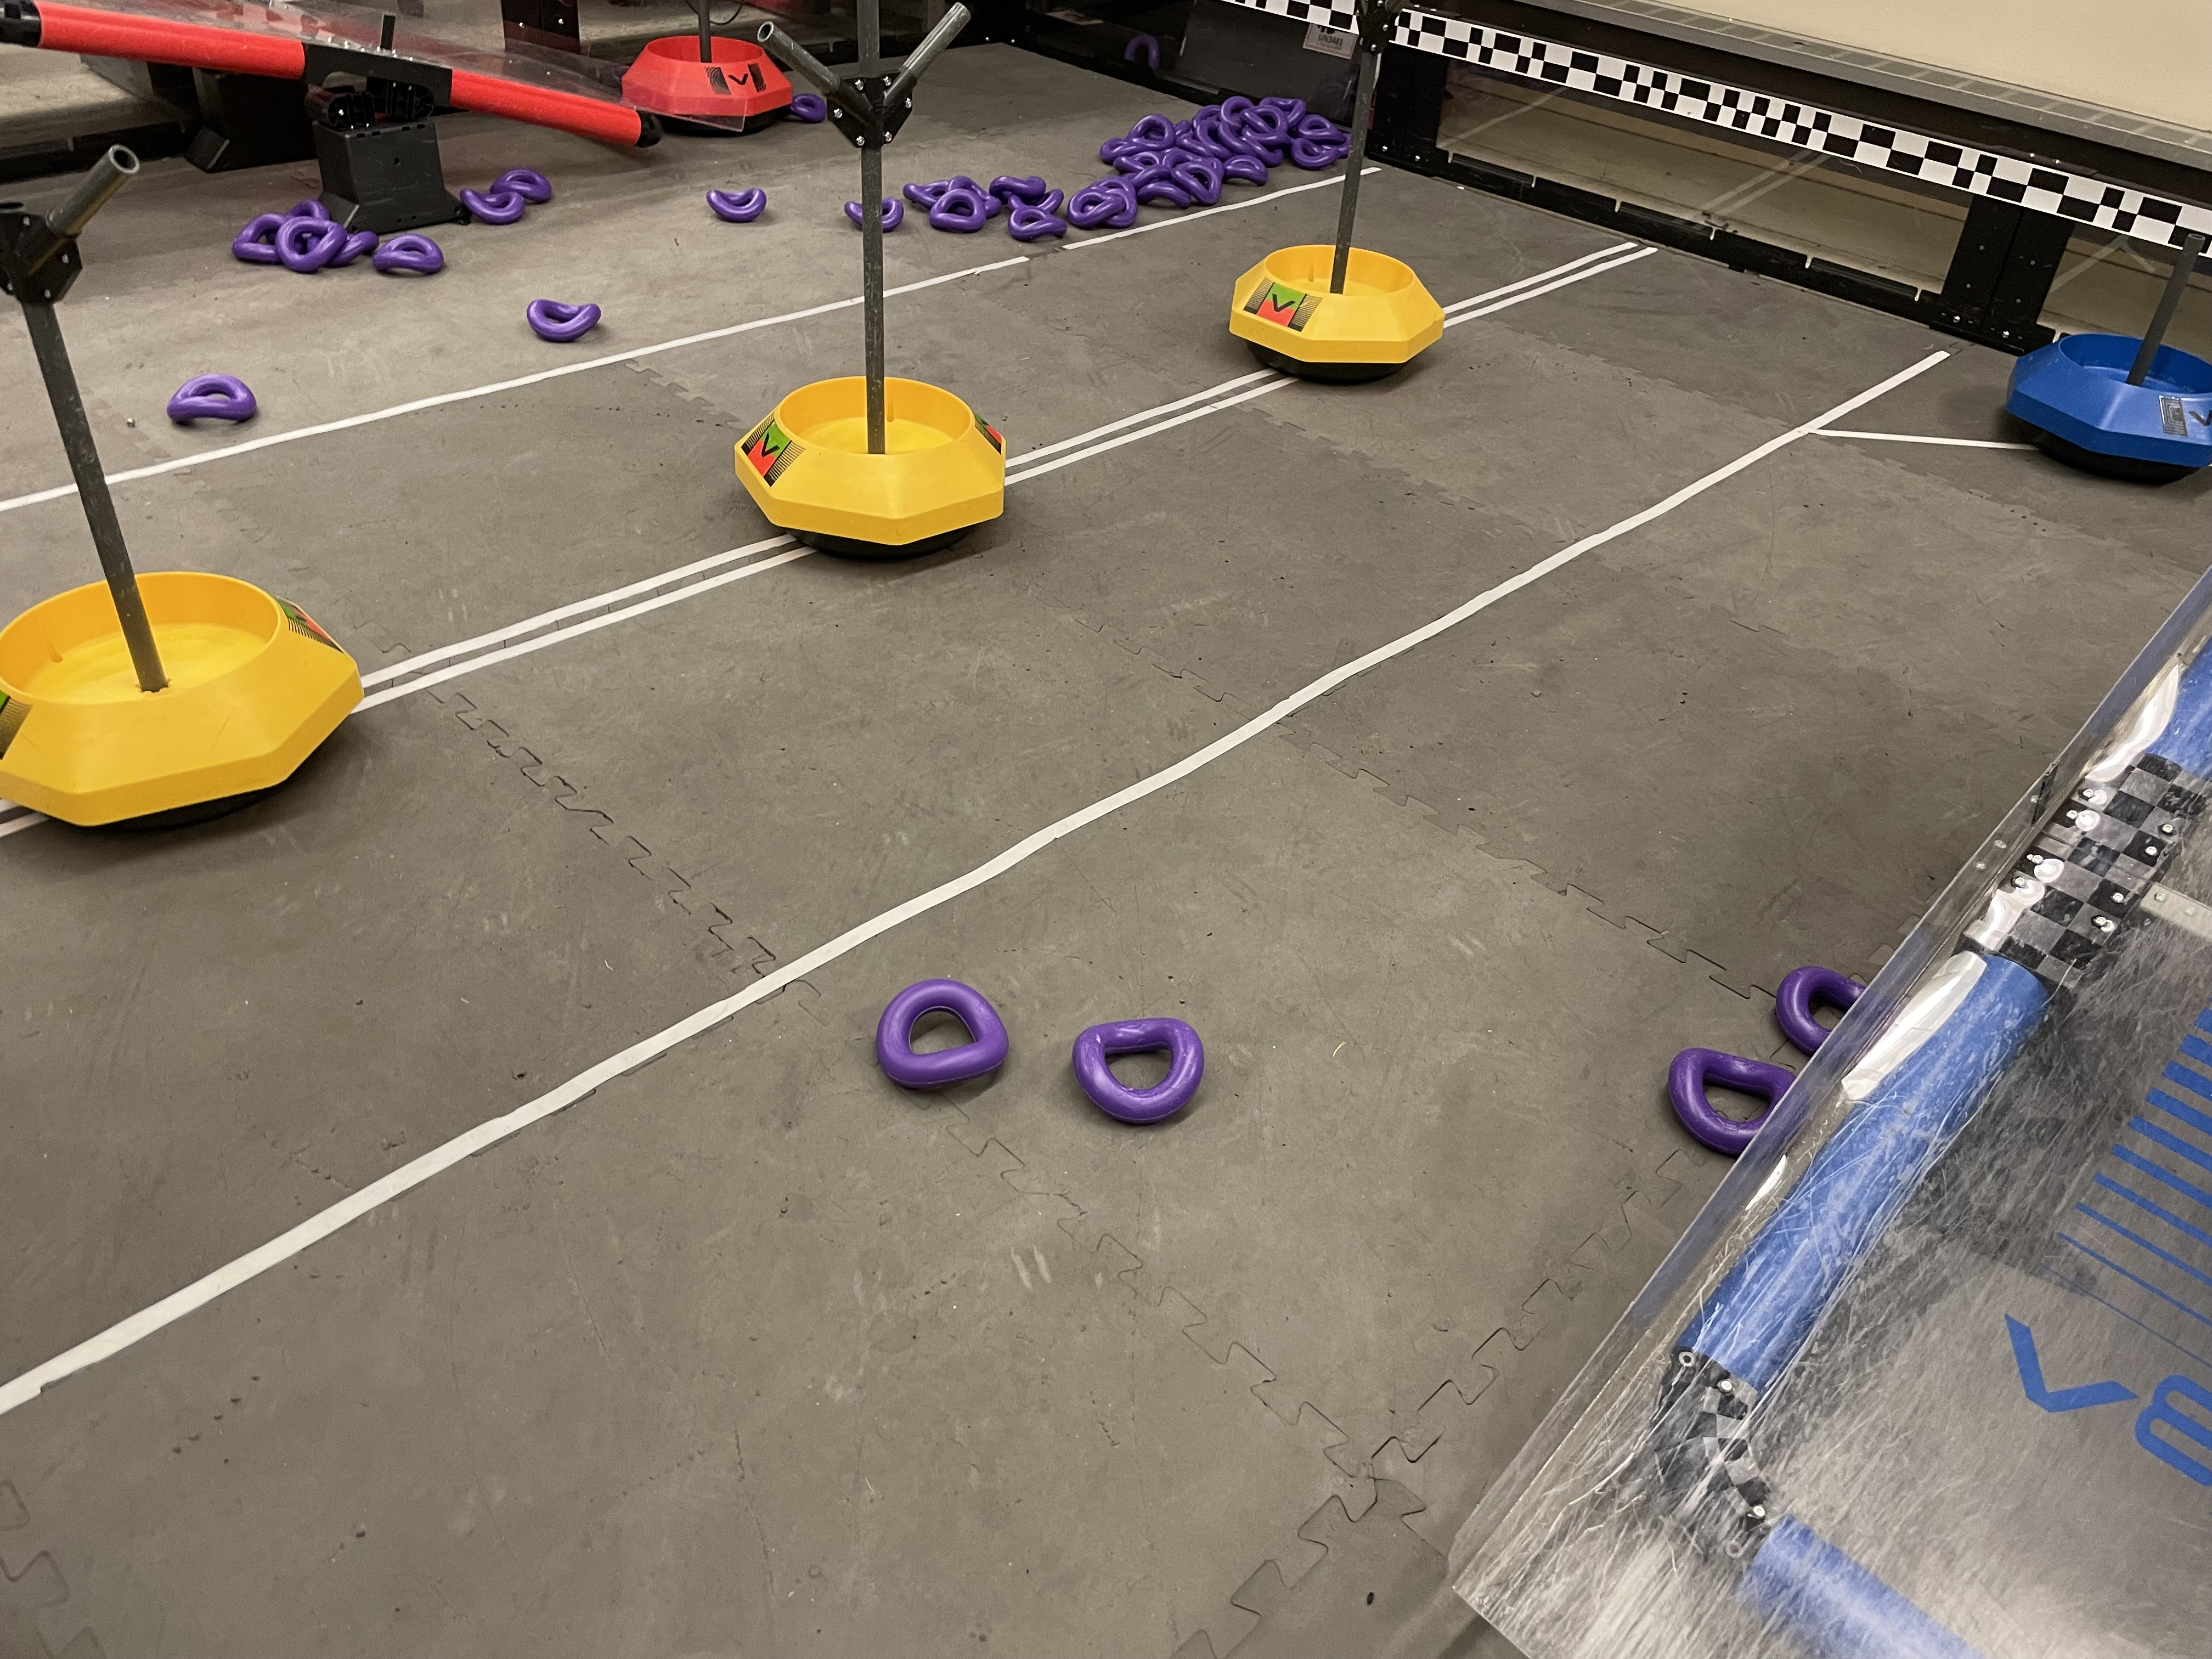ring: (1656, 1037, 1817, 1159), (1064, 1009, 1209, 1129), (867, 972, 1010, 1093), (1759, 951, 1911, 1061), (160, 368, 263, 425), (225, 209, 303, 267), (275, 213, 347, 274), (521, 293, 601, 347), (368, 232, 449, 277), (453, 181, 523, 232), (923, 188, 988, 237), (482, 166, 556, 207), (944, 173, 1003, 221), (279, 195, 329, 251), (704, 183, 766, 225), (840, 195, 907, 234), (1064, 188, 1125, 228), (1169, 160, 1224, 204), (1005, 206, 1069, 242), (986, 167, 1049, 200), (326, 227, 380, 265), (1090, 188, 1139, 228), (902, 176, 960, 209), (1291, 134, 1339, 173), (1237, 101, 1289, 136), (1130, 183, 1191, 211), (1125, 115, 1176, 148), (782, 91, 827, 127), (1082, 174, 1137, 204), (1221, 152, 1270, 185), (1003, 188, 1064, 214), (1193, 117, 1233, 153), (1259, 94, 1305, 124), (1292, 113, 1343, 138), (1118, 164, 1176, 185), (1097, 134, 1150, 157), (1219, 94, 1254, 127), (1108, 153, 1167, 173), (1322, 131, 1357, 155), (1160, 146, 1207, 164)
